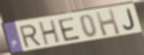0: (79, 13, 100, 39)
E: (57, 16, 82, 43)
H: (94, 8, 122, 38), (38, 18, 62, 47)
J: (122, 8, 136, 31)
R: (18, 23, 43, 49)
